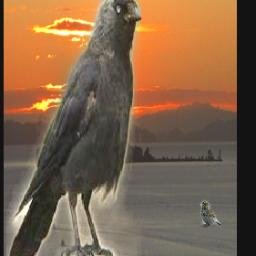Crow: (6, 0, 141, 256)
Sparrow: (200, 201, 221, 228)
